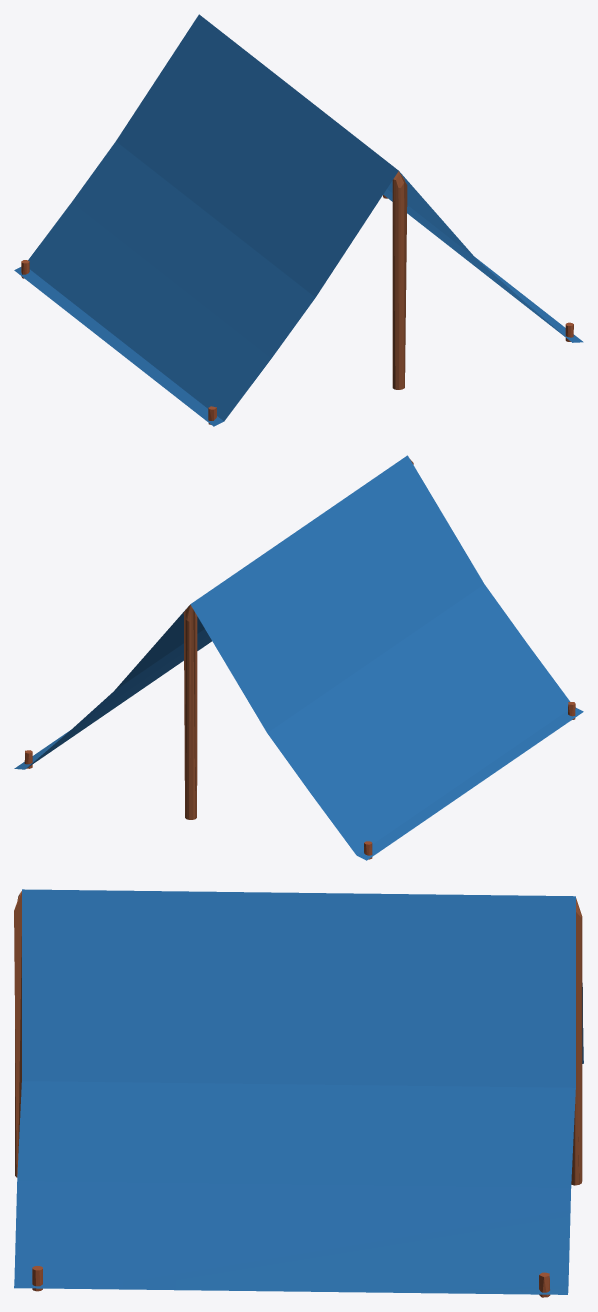
Rendered from tent1.fbx.
The picture shows the model from 3 angles, top to bottom: view 1: azimuth 30°, elevation 25°; view 2: azimuth 150°, elevation 25°; view 3: azimuth 270°, elevation 25°; orthographic projection. The views are drawn at different scales.
Visible parts, largest first — view 1: Tent1; view 2: Tent1; view 3: Tent1.
Part boxes in pixels (bbox=[...]): Tent1: bbox=[14, 14, 583, 426]; Tent1: bbox=[14, 455, 583, 860]; Tent1: bbox=[14, 889, 583, 1297].
Size of the model in its own units: 2095 by 1160 by 2096.
